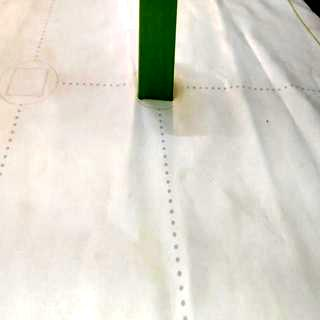greenbox: (136, 0, 180, 100)
